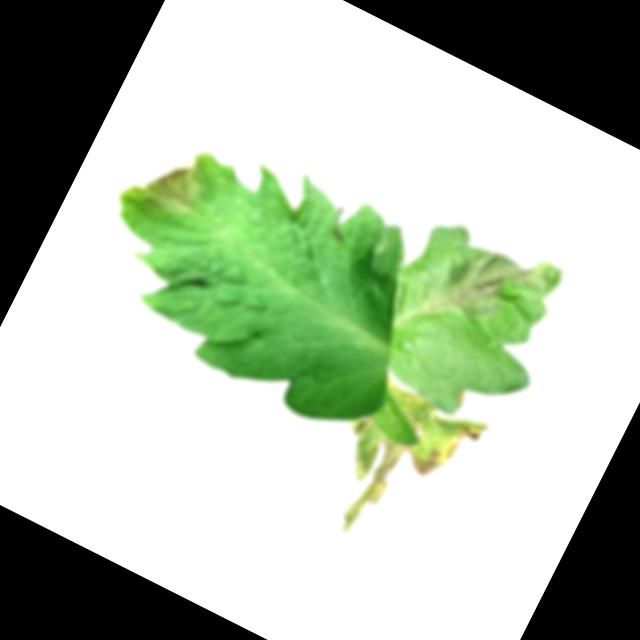Late_blight: (311, 368, 492, 568), (423, 218, 563, 352), (128, 139, 215, 223)
